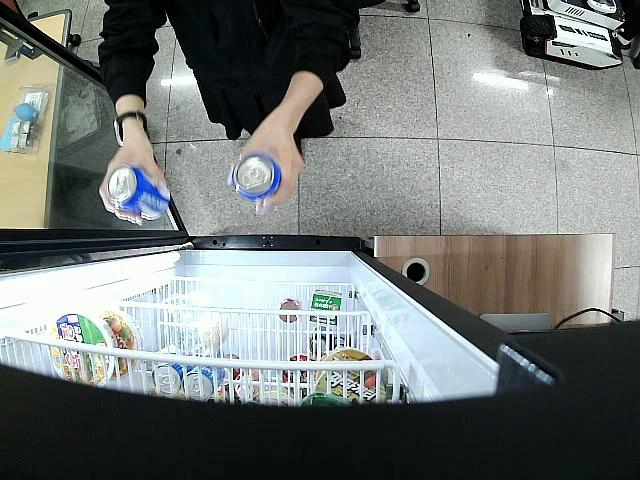00_hand: (228, 129, 304, 218), (99, 144, 169, 225)
13_pocariSweat: (108, 166, 173, 223), (233, 154, 281, 199)
